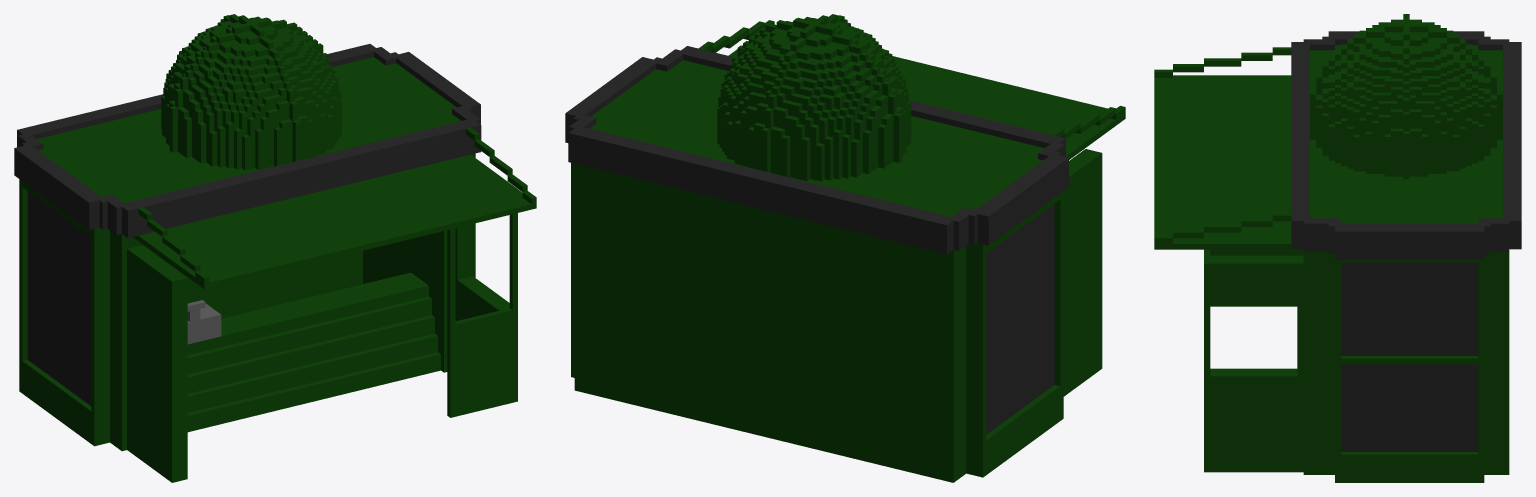
File: Kiosque.obj
The picture shows the model from 3 angles, left to right: view 1: azimuth 30°, elevation 25°; view 2: azimuth 150°, elevation 25°; view 3: azimuth 270°, elevation 25°; orthographic projection. The views are drawn at different scales.
Bounding box in the file's own units: 7.6 × 6.4 × 5.9.
Materials: 1 (1 with a texture image).
